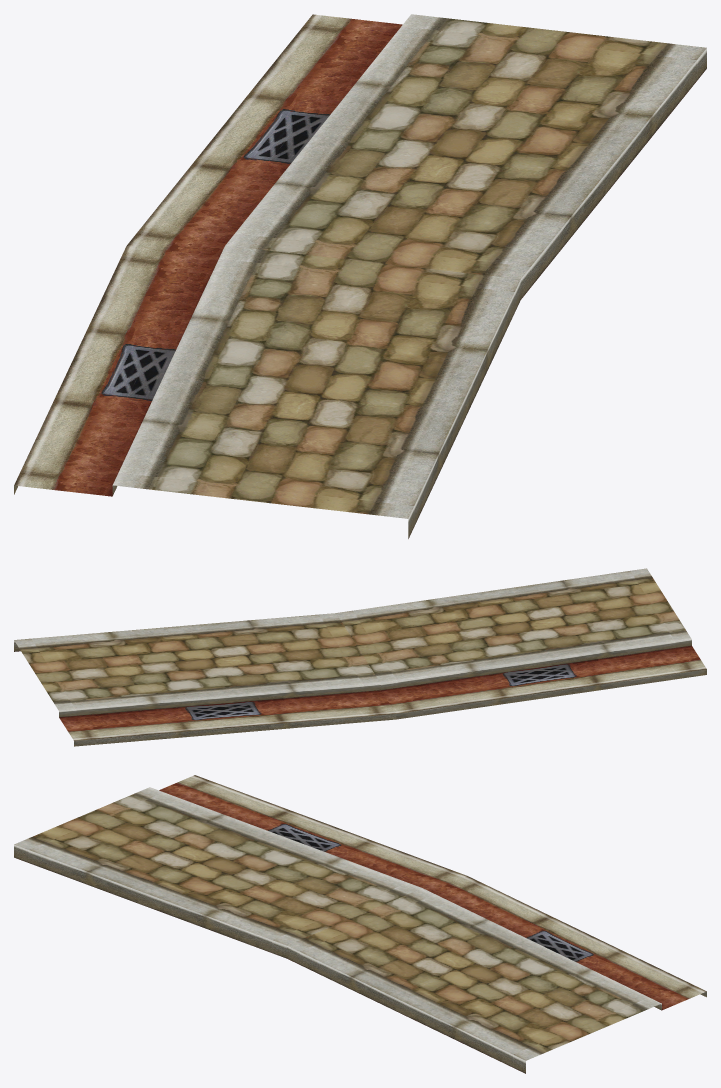
File: obj_masabkdiagonal03.glb
The picture shows the model from 3 angles, top to bottom: view 1: azimuth 30°, elevation 25°; view 2: azimuth 150°, elevation 25°; view 3: azimuth 270°, elevation 25°; orthographic projection. The views are drawn at different scales.
Visible parts, largest first — view 1: part_0; view 2: part_0; view 3: part_0.
Boxes of the visible parts, box(x1,y1,x2,y2) form: part_0: box(14, 14, 706, 538); part_0: box(14, 568, 706, 746); part_0: box(14, 775, 706, 1073).
Bounding box in the file's own units: 10.83 × 0.2275 × 10.83.
1 material, 1 textured.
